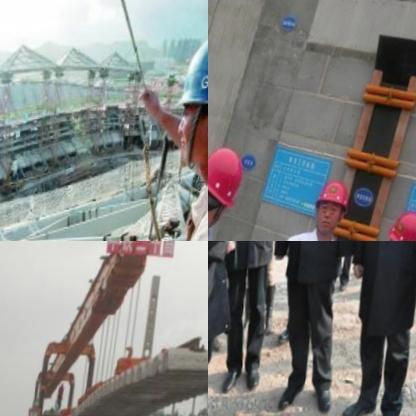helmet: (165, 7, 208, 192), (208, 142, 250, 236), (313, 176, 353, 241), (386, 212, 416, 241)
